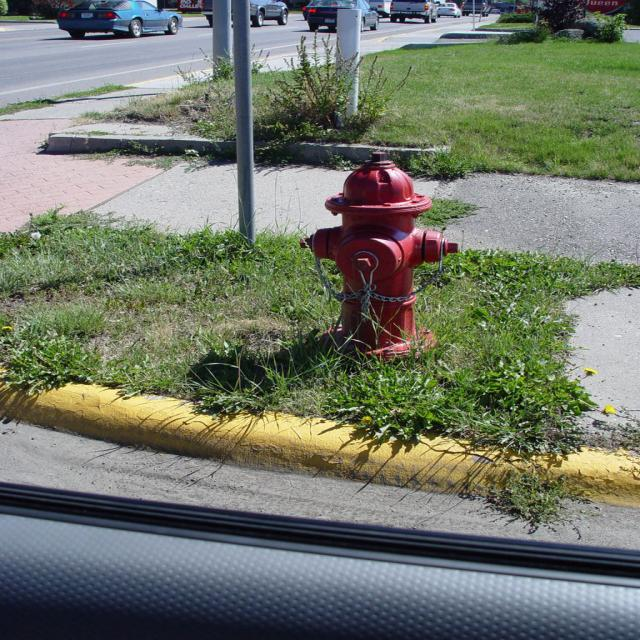fire_hydrant: (298, 150, 458, 370)
